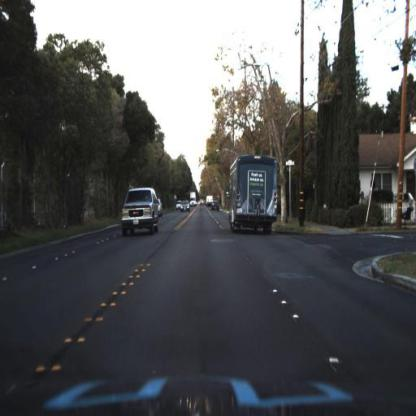car: (115, 181, 162, 243), (121, 187, 162, 236), (210, 197, 223, 216), (179, 200, 192, 216)
truck: (228, 154, 280, 235), (191, 190, 196, 207)
